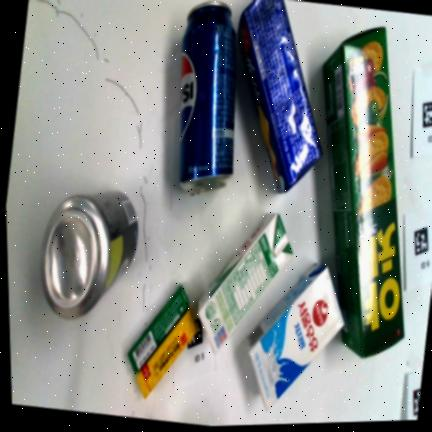can_pepsi: (179, 2, 235, 190)
can_pepsi_zero: (41, 190, 138, 318)
cracker_ace: (238, 0, 321, 192)
cracker_vege: (323, 27, 404, 356)
gum_green: (128, 286, 187, 372)
gum_yellow: (136, 309, 196, 397)
milk_blue: (247, 263, 343, 410)
milk_green: (198, 213, 292, 352)
